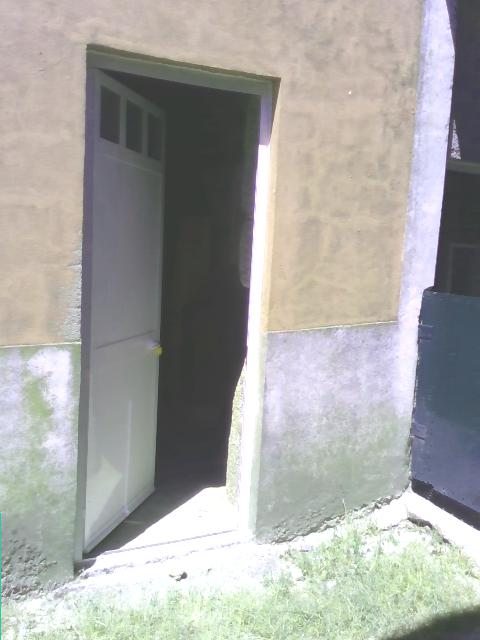semi_door: (73, 36, 273, 528)
